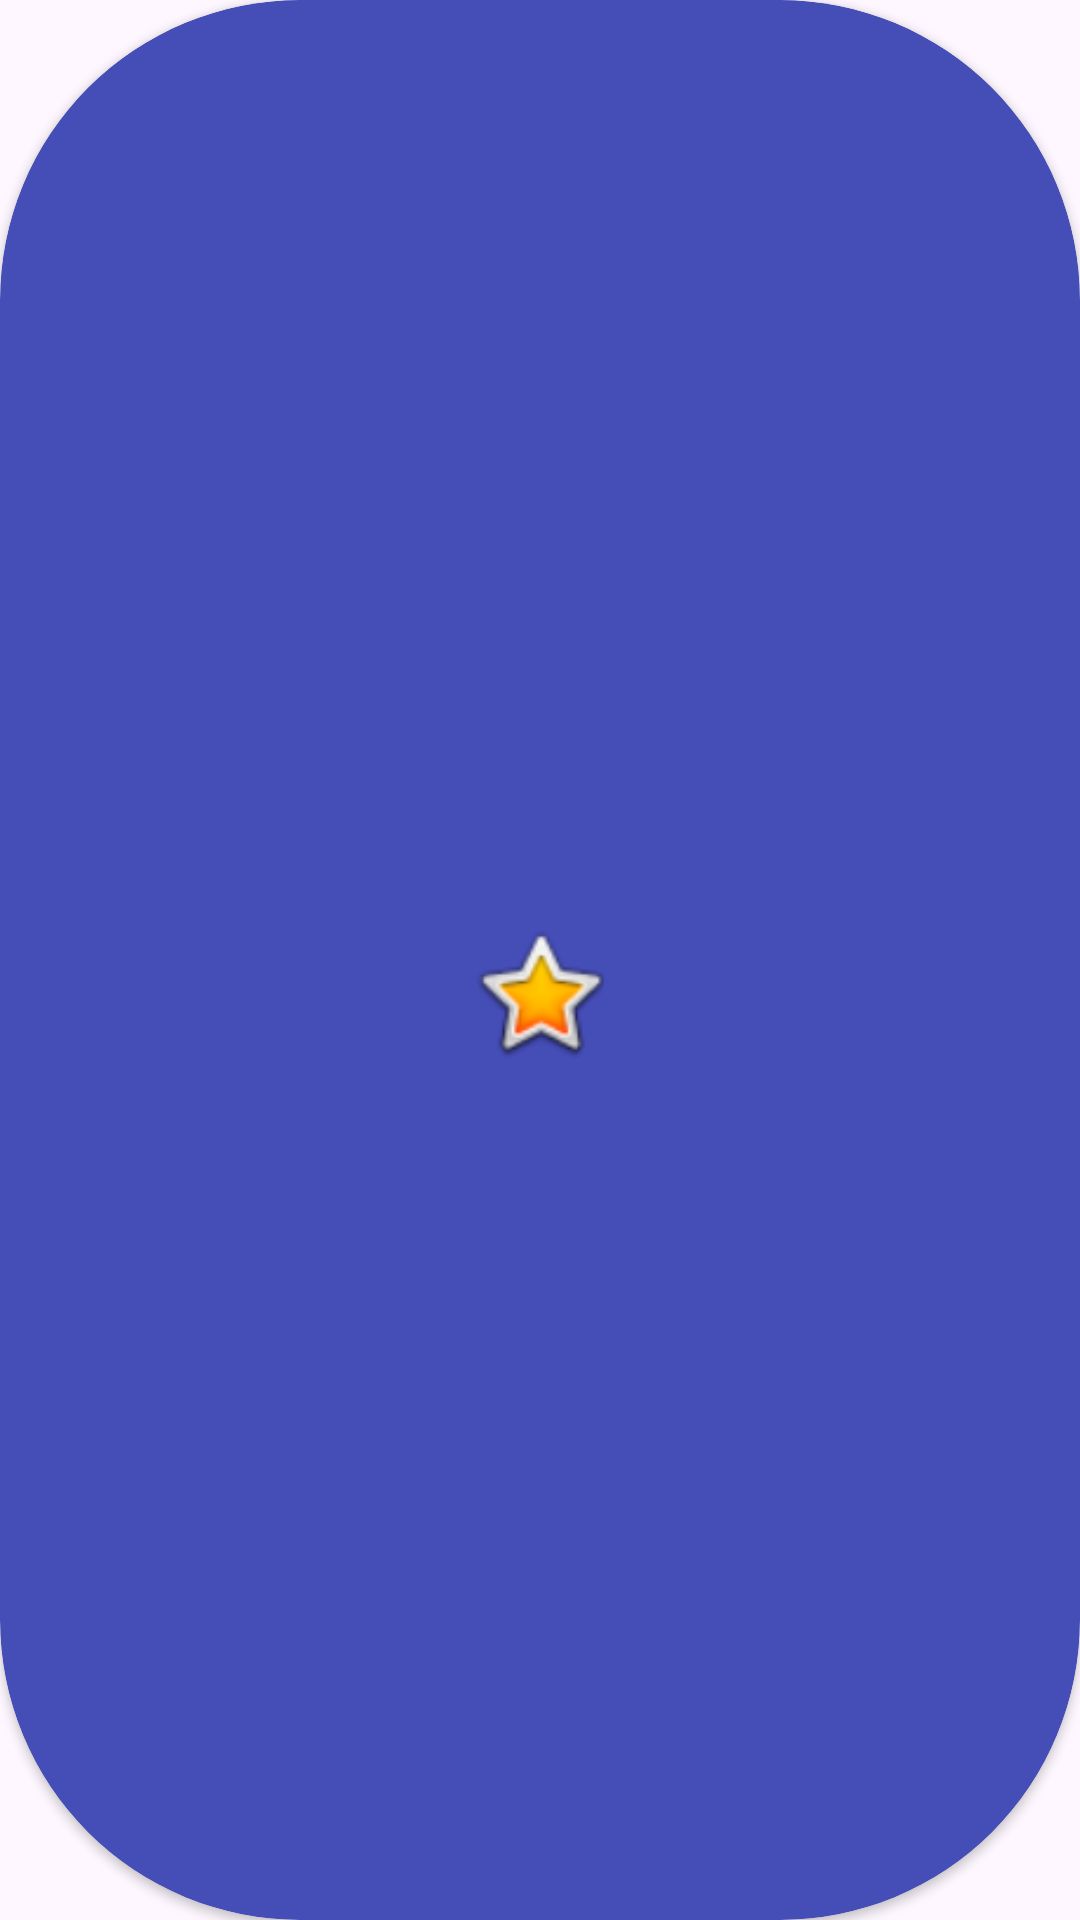

Where icons sit on this 1080px×1920px app screen, as bbox=(x1, y1, x2, y2):
star on: bbox=(479, 934, 604, 1055)
